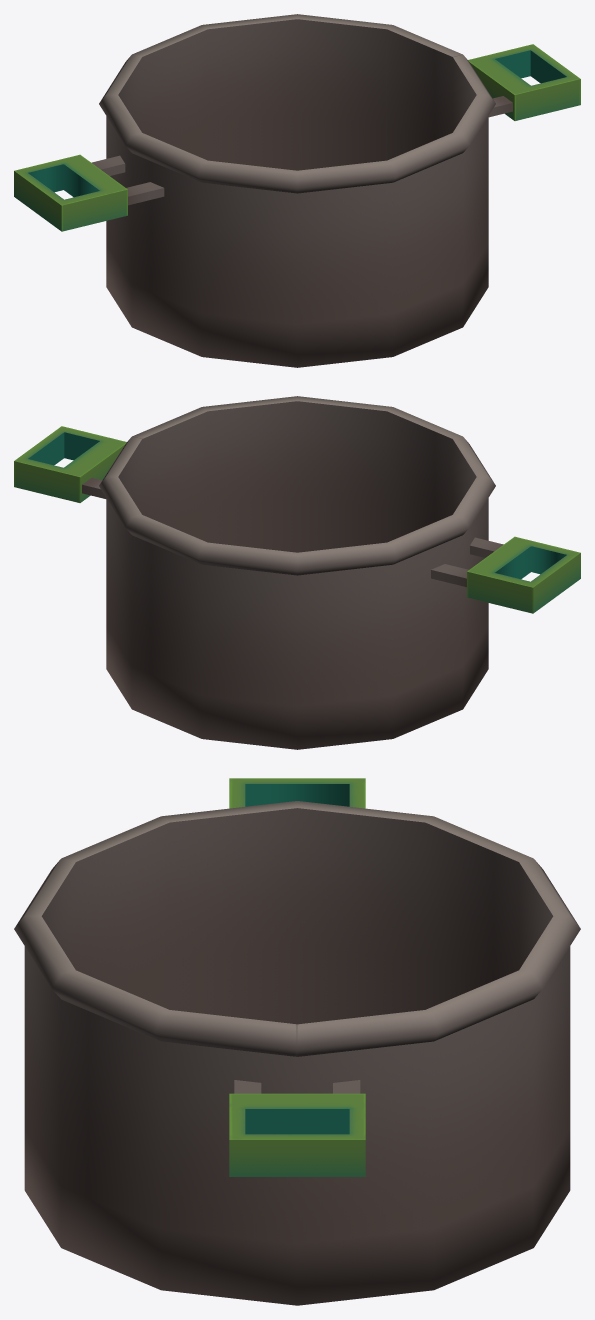
Rendered from Asset_Utensil_Pot.FBX.
The picture shows the model from 3 angles, top to bottom: view 1: azimuth 30°, elevation 25°; view 2: azimuth 150°, elevation 25°; view 3: azimuth 270°, elevation 25°; orthographic projection. The views are drawn at different scales.
Parts seen in each view (by area): view 1: Cylinder001; view 2: Cylinder001; view 3: Cylinder001.
Boxes of the visible parts, x1,y1,x2,y2 form: Cylinder001: (14,14,580,367); Cylinder001: (14,396,580,749); Cylinder001: (14,778,580,1305).
Size of the model in its own units: 36.33 by 12.85 by 24.08.
1 material, 1 textured.
